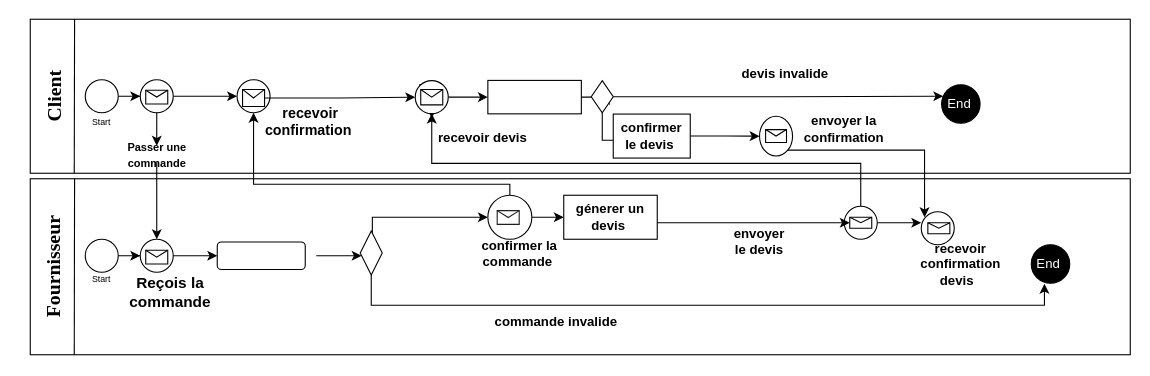
Image size: 1150x376. Some labels were removed from this diagram. The shapes that lost their labels are listed below. From the top down, each one's box as (x1, y1, x2, y2) in pixels, then its label:
(487, 79, 581, 114): examiner le devis
(216, 241, 305, 270): Gérer la commande
